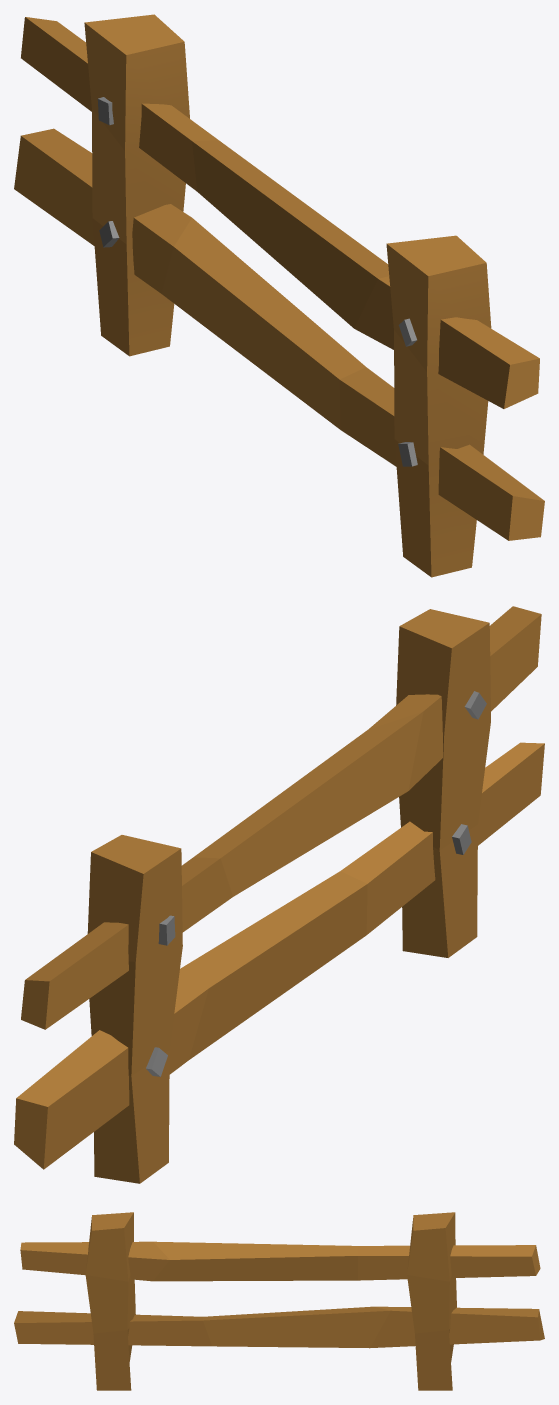
Rendered from Barrière_04.fbx.
3 renders of one model, top to bottom at view 1: azimuth 30°, elevation 25°; view 2: azimuth 150°, elevation 25°; view 3: azimuth 270°, elevation 25°, orthographic. The views are drawn at different scales.
Visible parts, largest first — view 1: Barrière_04; view 2: Barrière_04; view 3: Barrière_04.
Part boxes in pixels (x1,y1,x2,y2): Barrière_04: (14,14,544,577); Barrière_04: (14,606,544,1183); Barrière_04: (14,1212,544,1390).
Bounding box in the file's own units: 31.56 × 143 × 417.
Materials: 1 (1 with a texture image).
